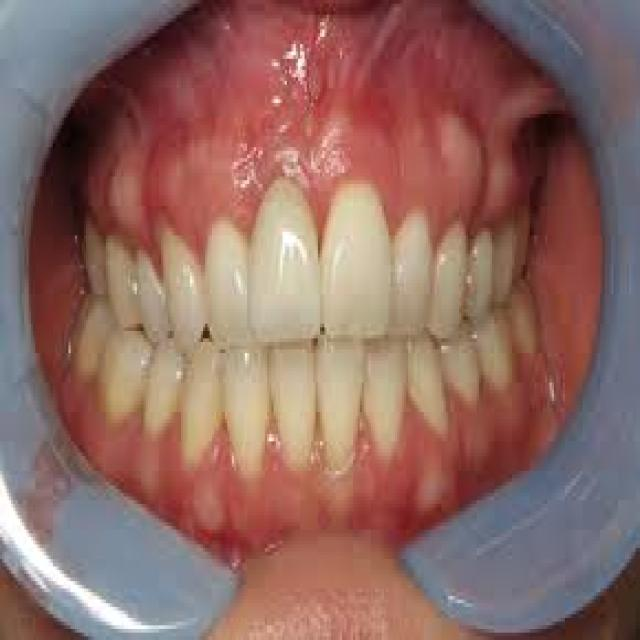tooth: (245, 170, 322, 338), (316, 180, 395, 342), (312, 328, 366, 490), (218, 331, 272, 482), (269, 331, 320, 475), (91, 309, 150, 427), (402, 320, 454, 449), (362, 327, 408, 471), (388, 202, 435, 342), (201, 217, 254, 338), (181, 335, 223, 482), (159, 217, 207, 342), (130, 224, 170, 350), (146, 324, 185, 452), (102, 217, 144, 331), (470, 305, 514, 405), (435, 324, 483, 408), (432, 217, 466, 335), (466, 206, 496, 324), (492, 195, 519, 298), (82, 198, 108, 290)
